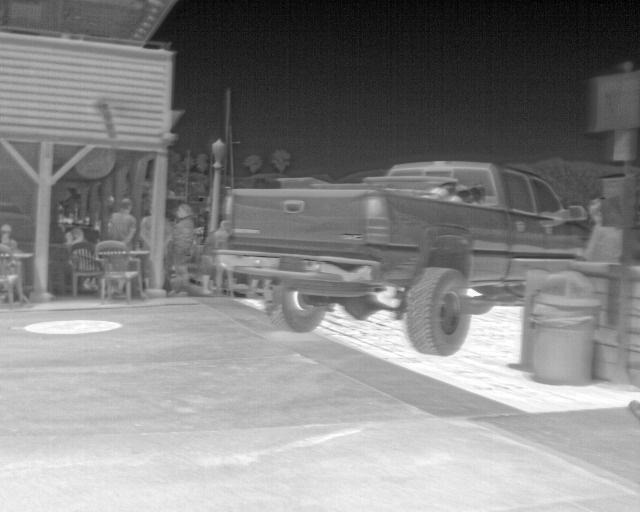bicycle: (213, 156, 588, 357)
empty: (166, 202, 199, 276), (107, 200, 137, 250), (0, 219, 21, 256), (66, 227, 86, 250)
